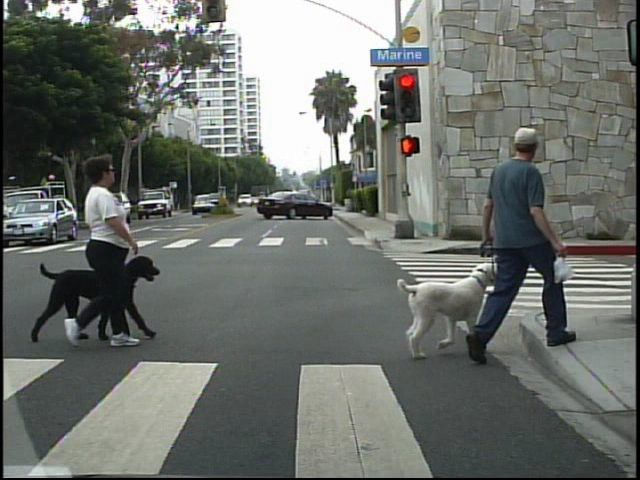person: (460, 116, 582, 364), (62, 148, 144, 352)
